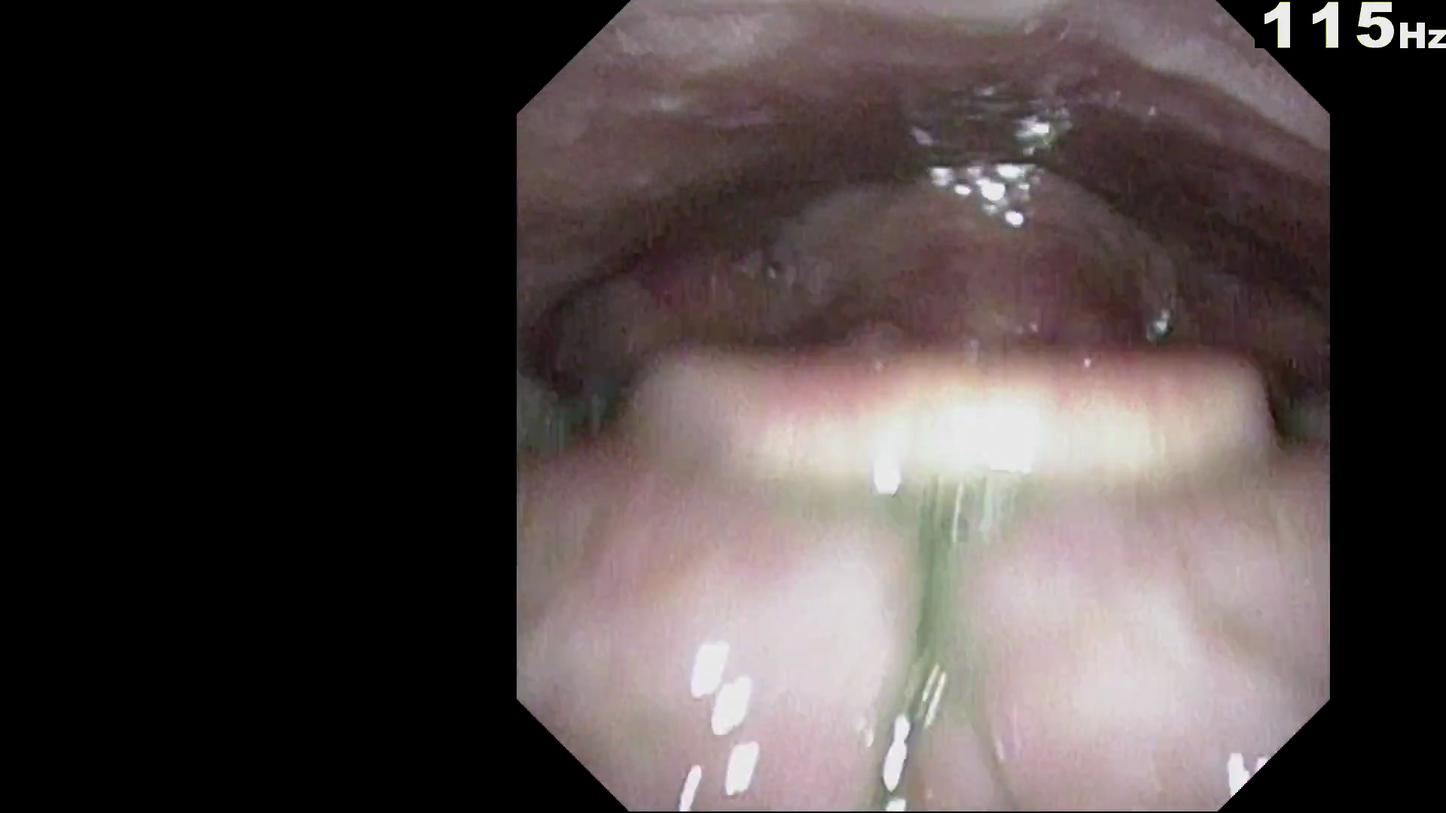epiglottis: (591, 313, 1299, 506)
